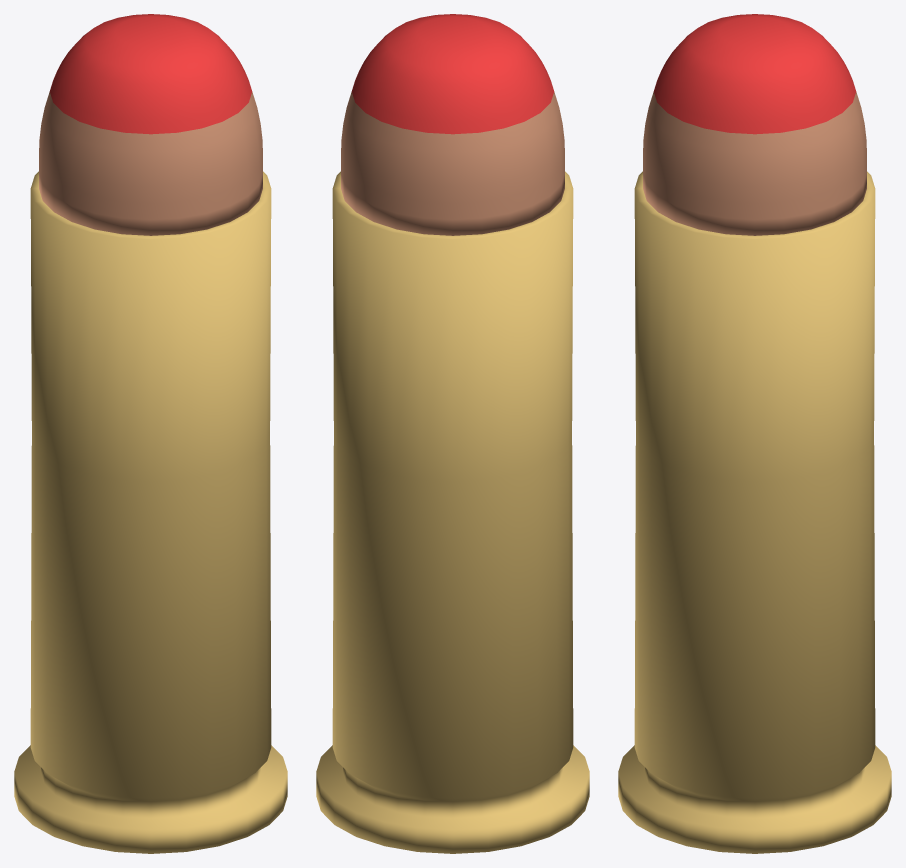
Rendered from 44mag_tr.glb.
3 views of the same model, side by side, from view 1: azimuth 30°, elevation 25°; view 2: azimuth 150°, elevation 25°; view 3: azimuth 270°, elevation 25° (orthographic).
Visible parts, largest first — view 1: vaina, bala_cuerpo, punta; view 2: vaina, bala_cuerpo, punta; view 3: vaina, bala_cuerpo, punta.
Boxes of the visible parts, x1,y1,x2,y2 form: vaina: (14,171,287,853); bala_cuerpo: (39,92,262,235); punta: (49,14,252,134); vaina: (316,171,589,853); bala_cuerpo: (341,92,564,235); punta: (351,14,554,134); vaina: (618,171,891,853); bala_cuerpo: (643,92,866,235); punta: (653,14,856,134).
Bounding box in the file's own units: 0.0133 × 0.041 × 0.0133.
